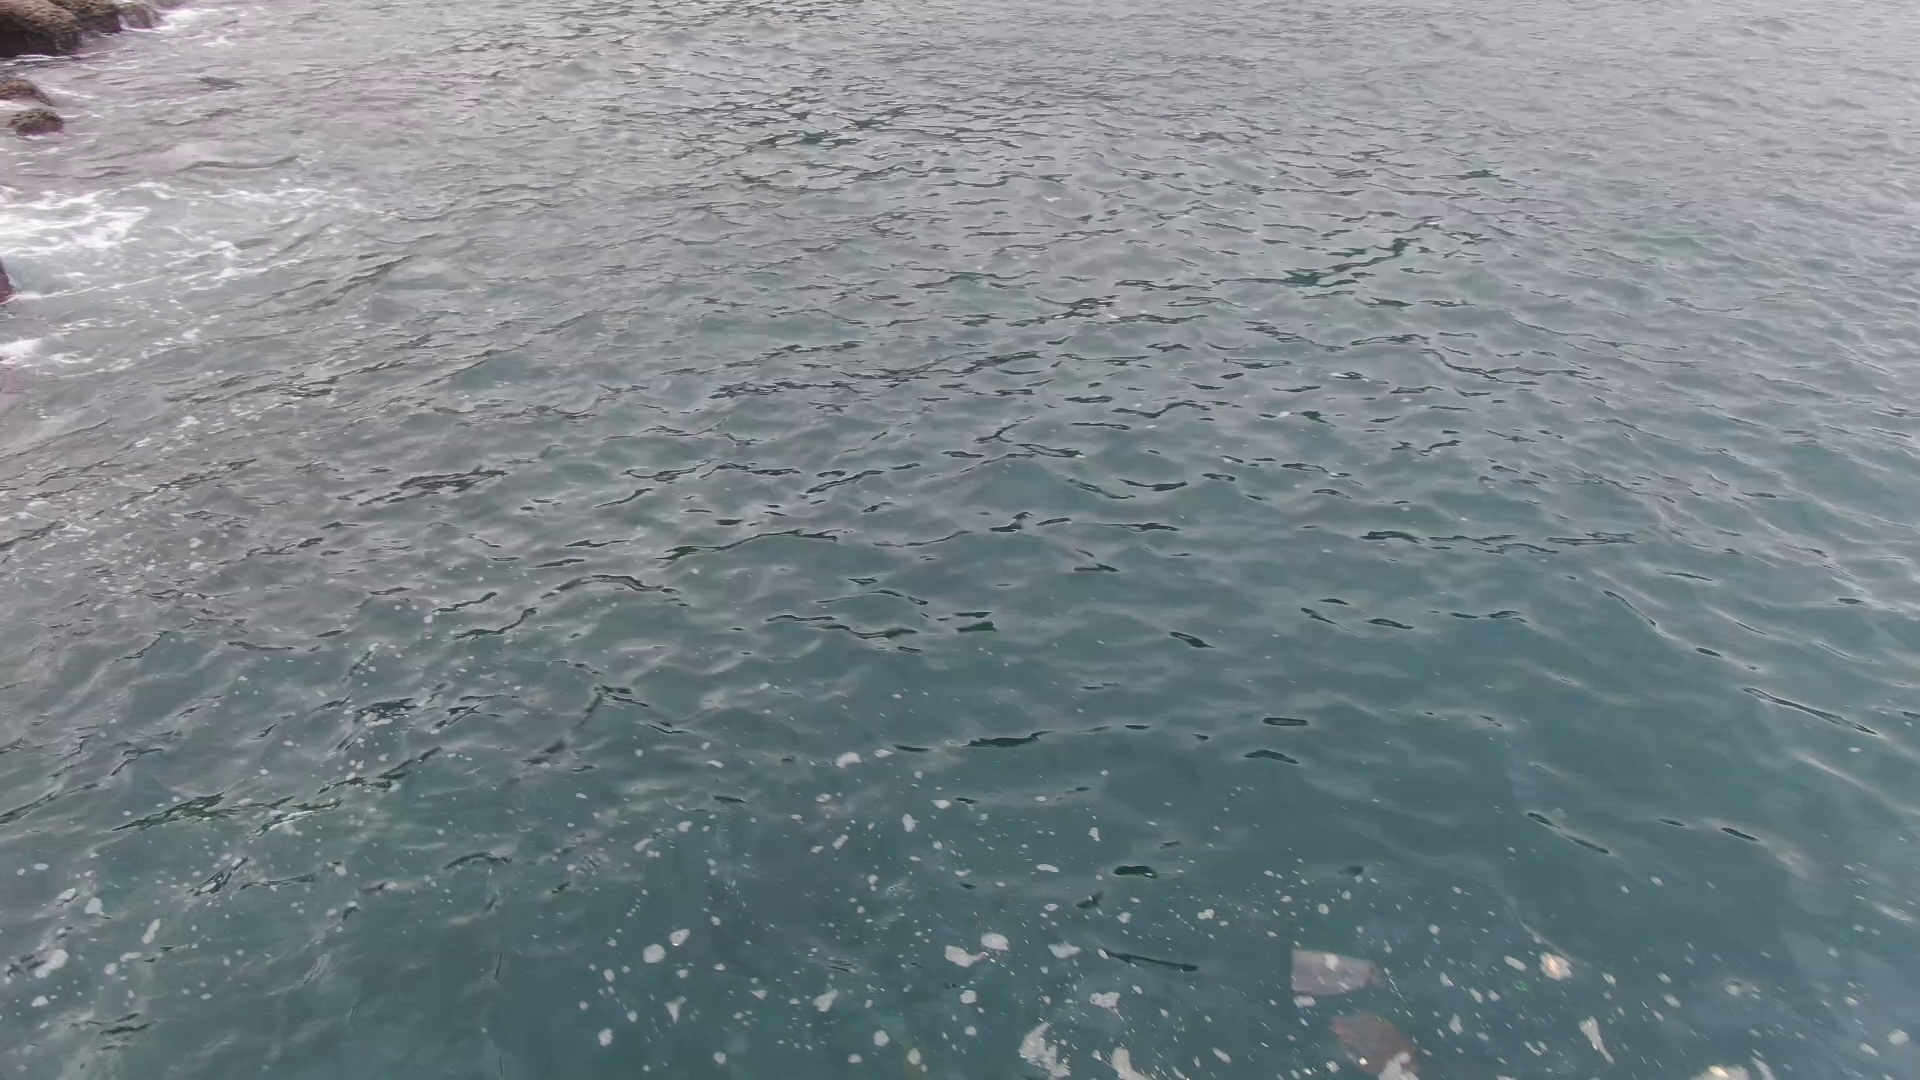garbage: (1337, 1015, 1418, 1073), (1294, 945, 1378, 992)
